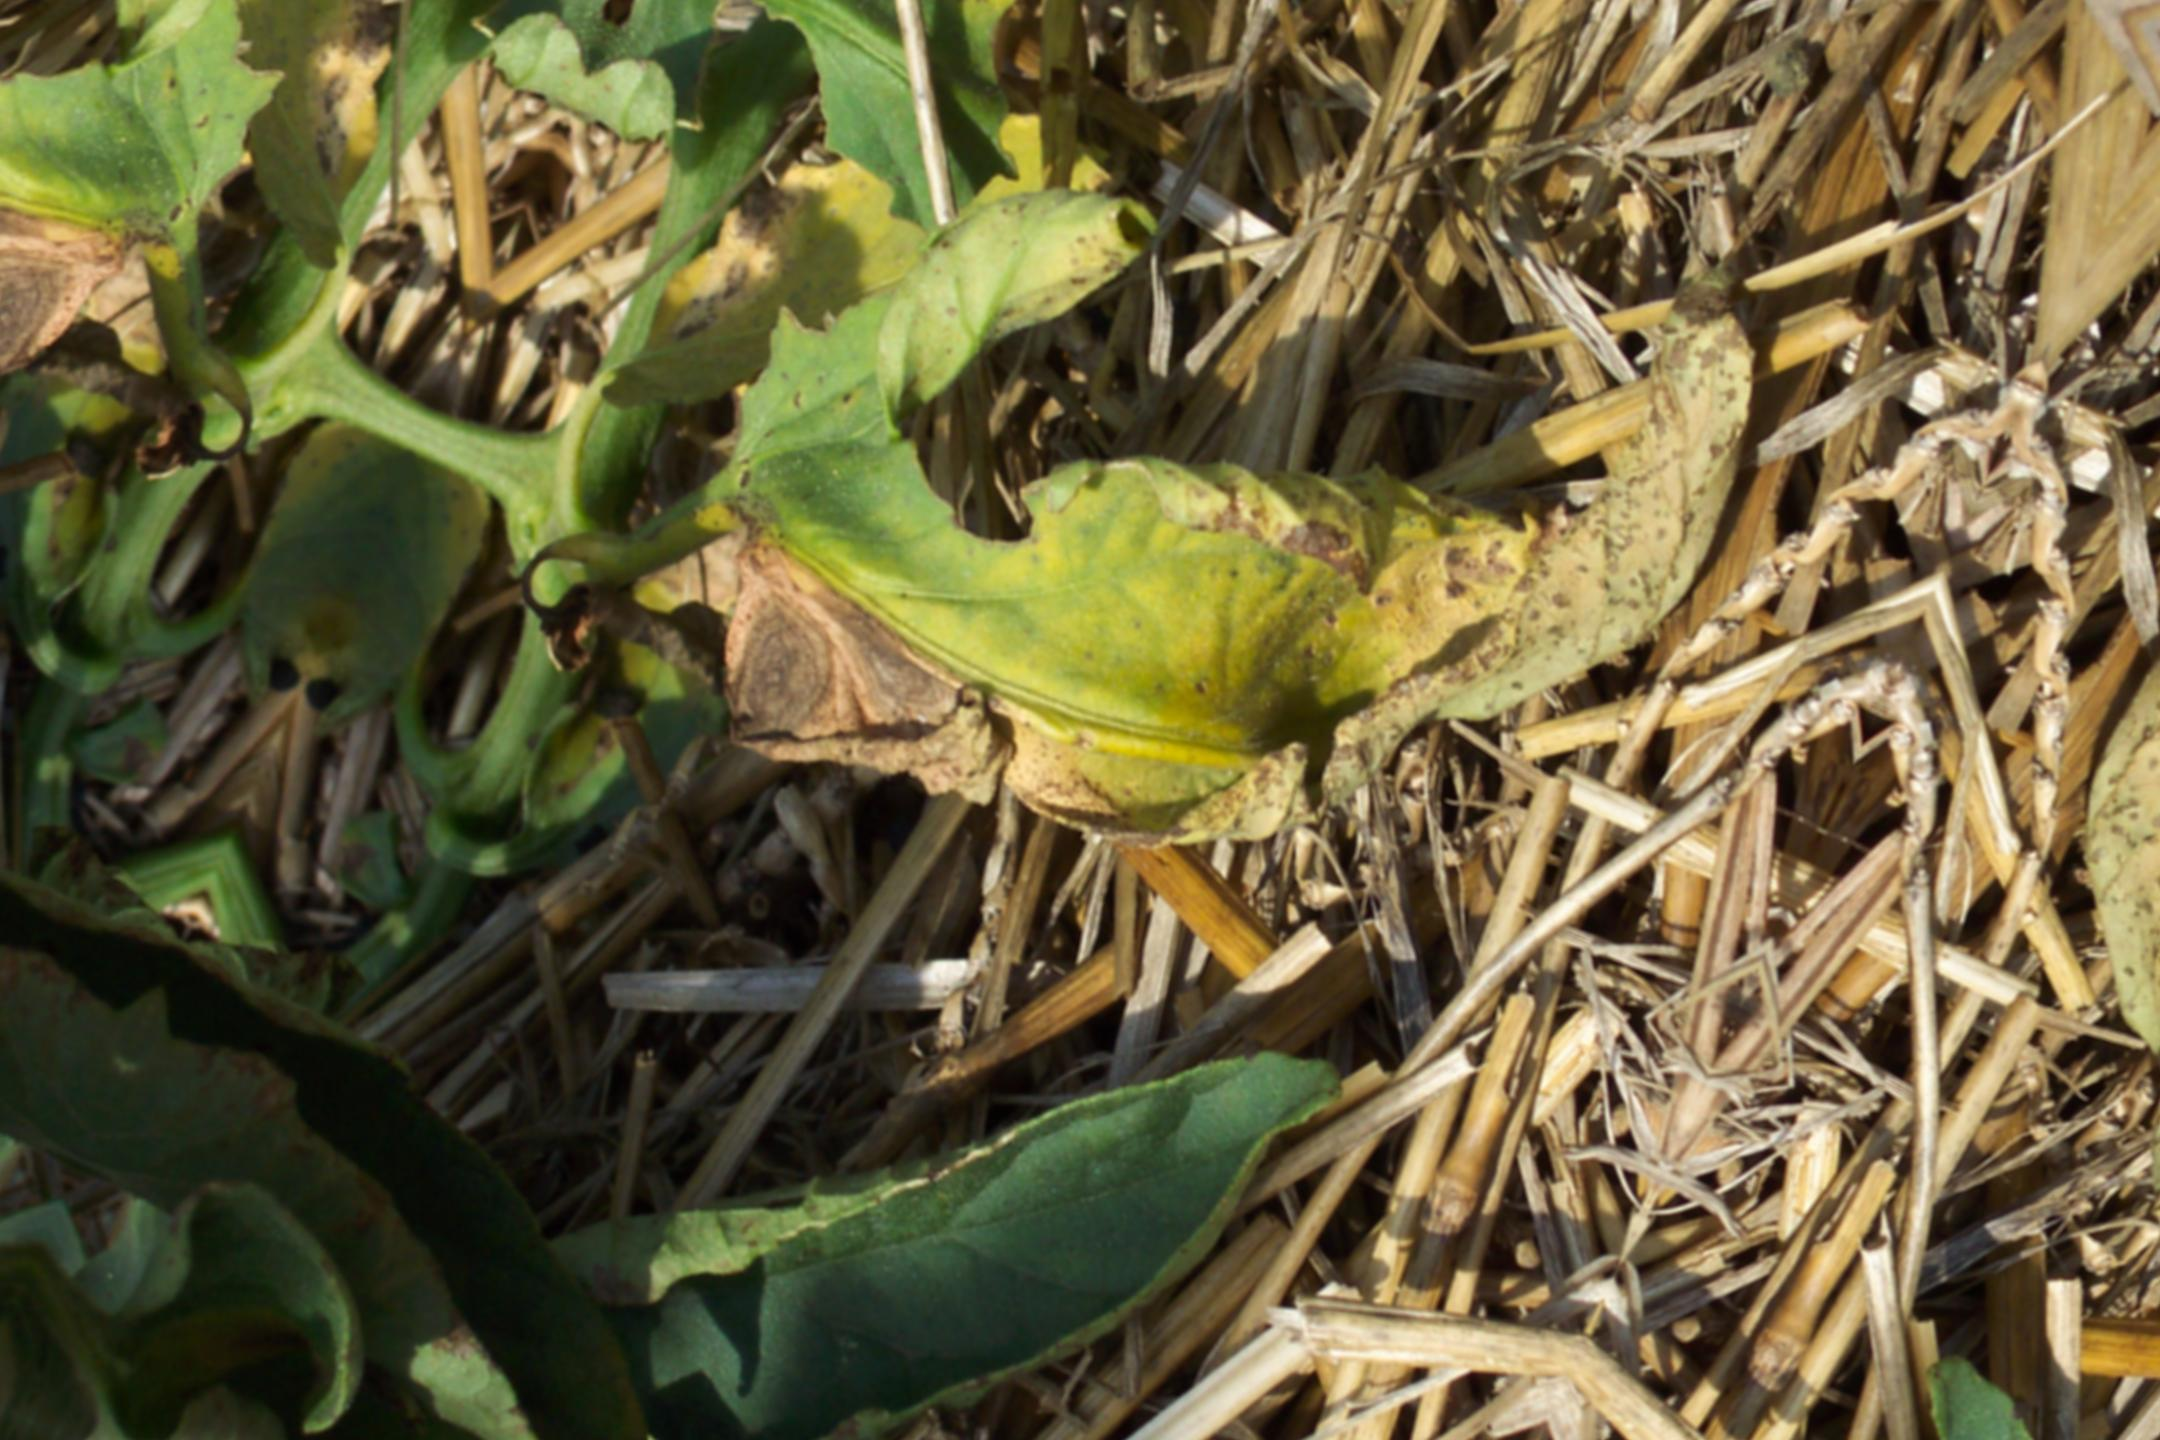Tomato Early blight leaf: (540, 0, 1794, 1106)
